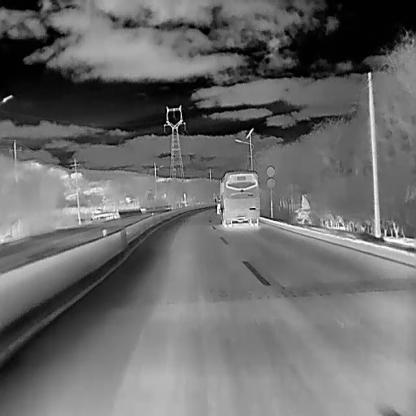bus: (212, 167, 262, 229)
